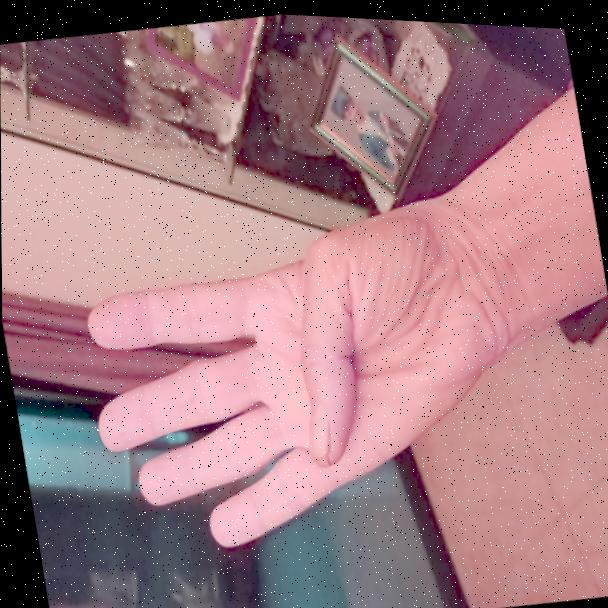four: (61, 170, 513, 579)
